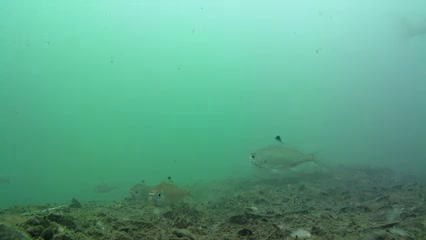smallfish: (241, 135, 329, 171)
